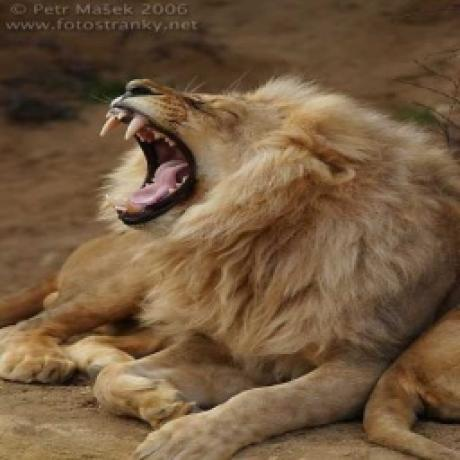Lion: (0, 68, 460, 460)
